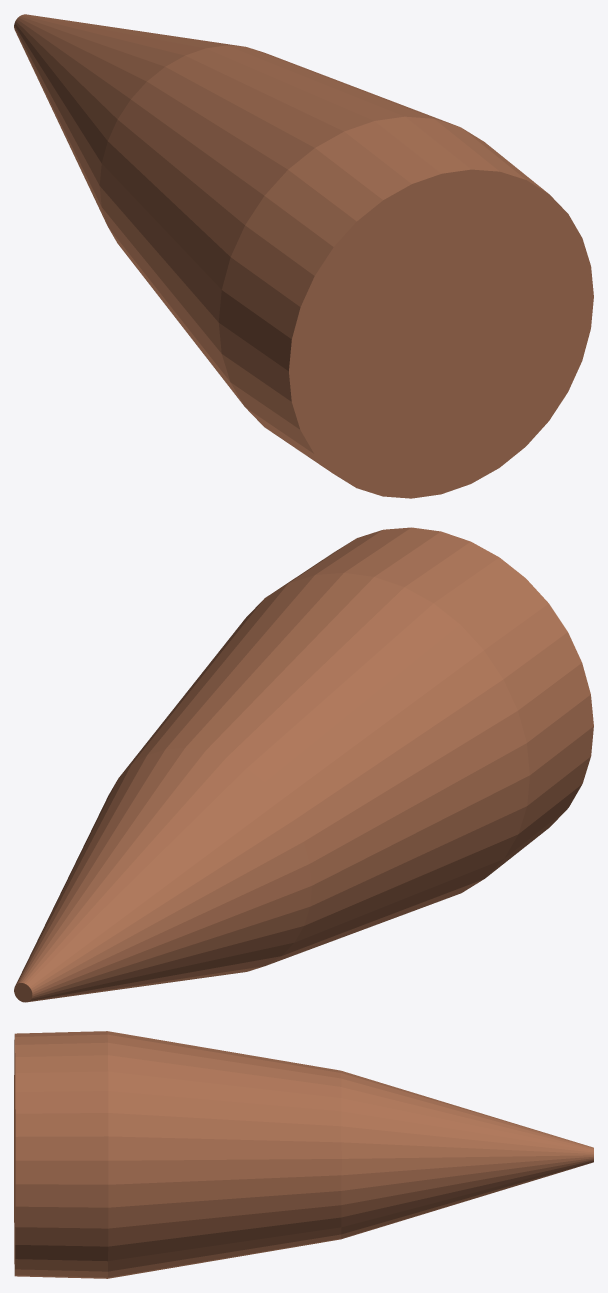
File: ammunition bullet.fbx
3 views of the same model, one above another, from view 1: azimuth 30°, elevation 25°; view 2: azimuth 150°, elevation 25°; view 3: azimuth 270°, elevation 25° (orthographic). The views are drawn at different scales.
Parts seen in each view (by area): view 1: schuss gesamt.003; view 2: schuss gesamt.003; view 3: schuss gesamt.003.
Part boxes in pixels (x1=…): schuss gesamt.003: x1=14, y1=14, x2=593, y2=498; schuss gesamt.003: x1=14, y1=527, x2=593, y2=1002; schuss gesamt.003: x1=14, y1=1031, x2=593, y2=1278.
Bounding box in the file's own units: 18.99 × 18.97 × 44.36.
